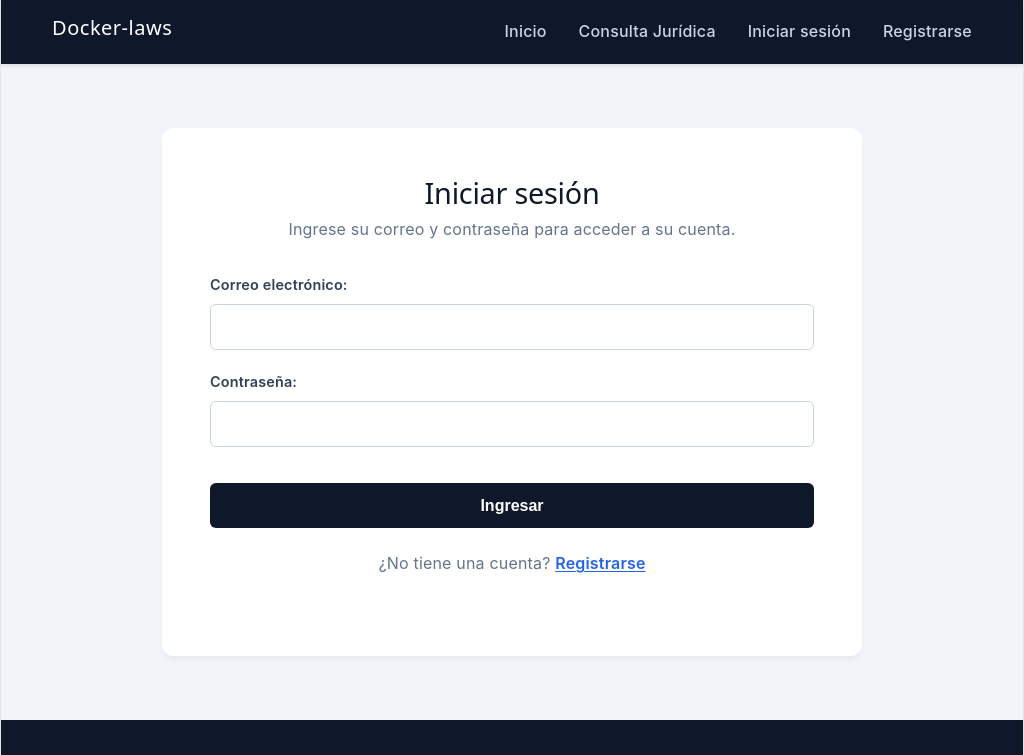
mantiene el formulario de login operable ante HTTP 400
Type "cuenta@ejemplo.invalid" into the field labelled "Correo electrónico:".
click(512, 327); type("cuenta@ejemplo.invalid")  # box [210,304,814,350]
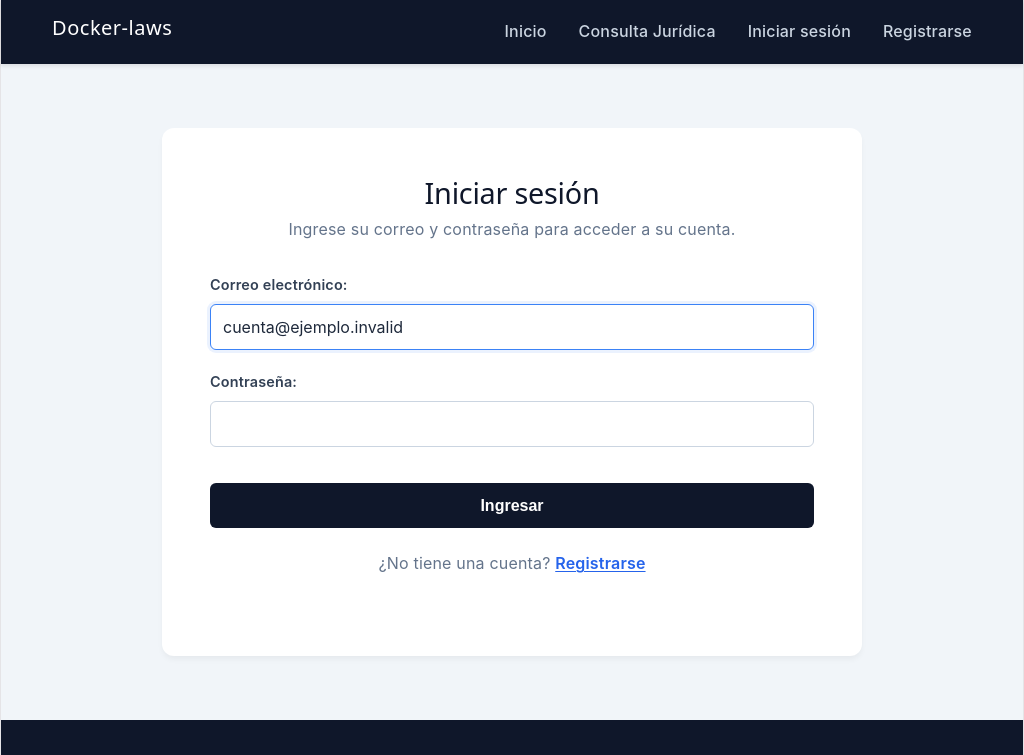
Type "ClaveFicticiaDePrueba" into the password field labelled "Contraseña:".
click(512, 424); type("ClaveFicticiaDePrueba")  # box [210,401,814,447]
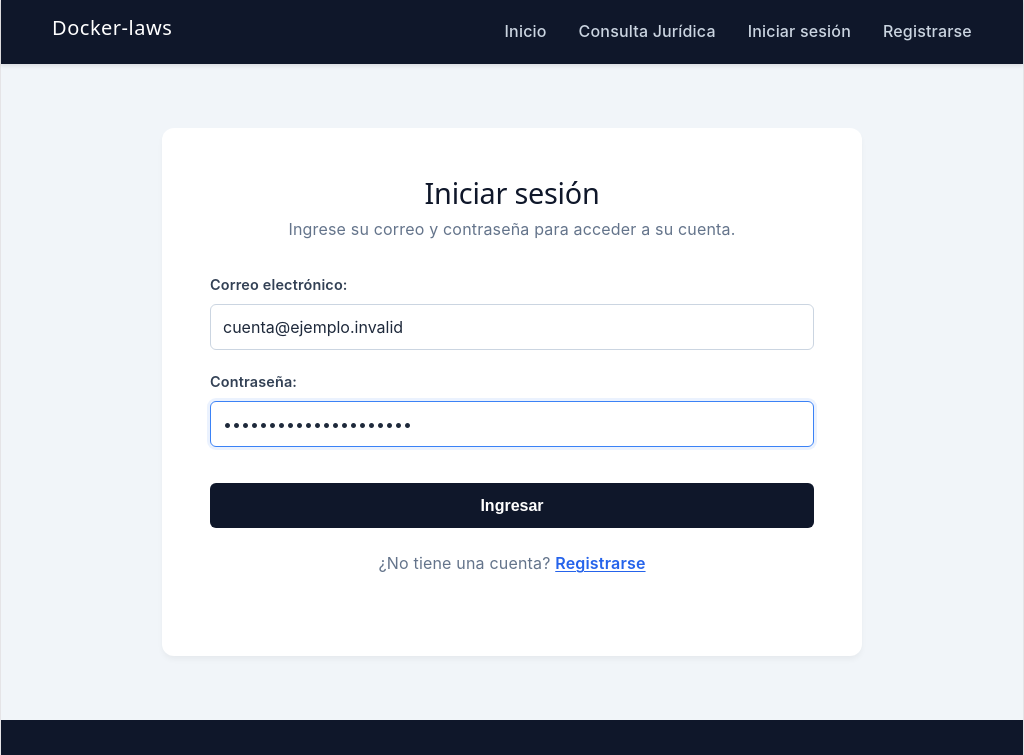
Click the button "Ingresar".
click(512, 506)  # box [210,483,814,528]
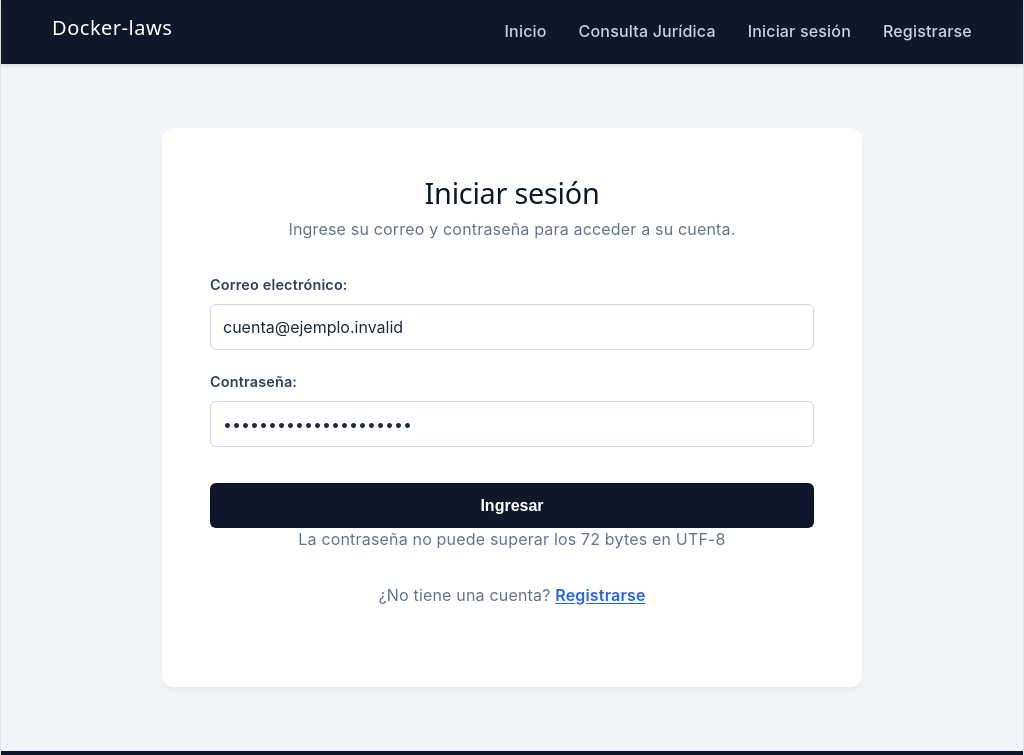
Result: the message reads "La contraseña no puede superar los 72 bytes en UTF-8" at [298,529,726,549]
